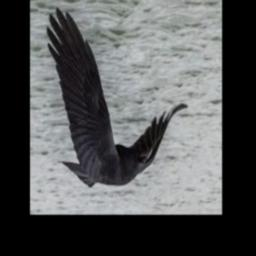Crow: (47, 8, 188, 190)
